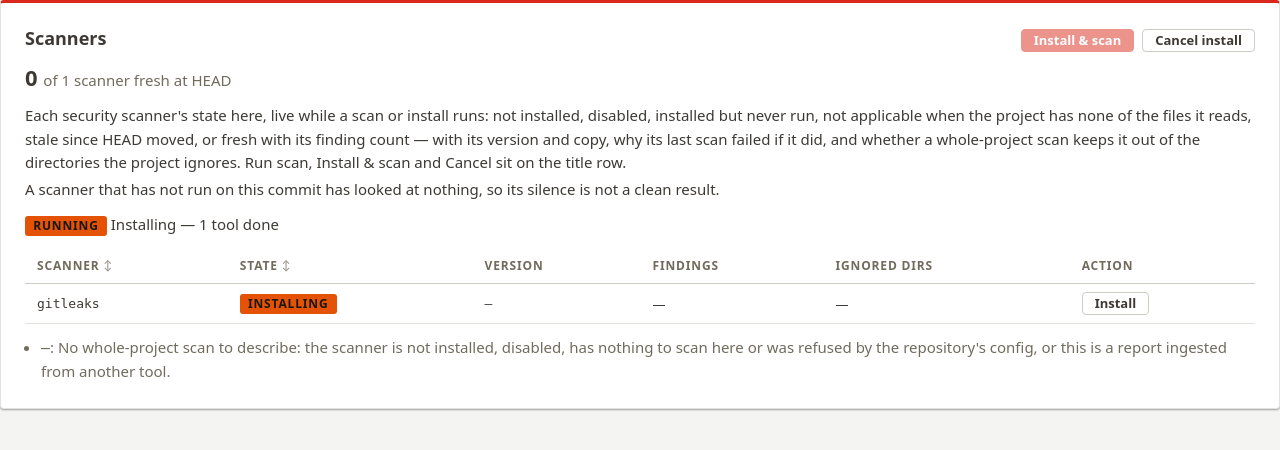
Test: Scan controls on the Scanners widget › Install & scan (S-747) › cancels the running install and names the tools it installed
Check: the button "Install & scan" is disabled, box [1021,29,1134,52]
Click the button "Cancel install".
click(1199, 40)  # box [1142,29,1255,52]
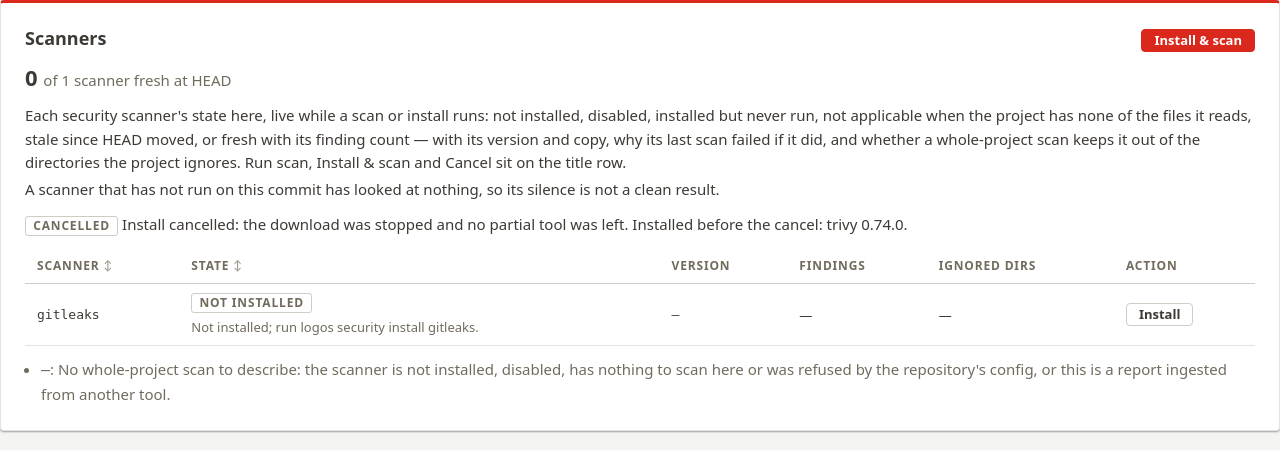
Check: the text "Installing" is gone
